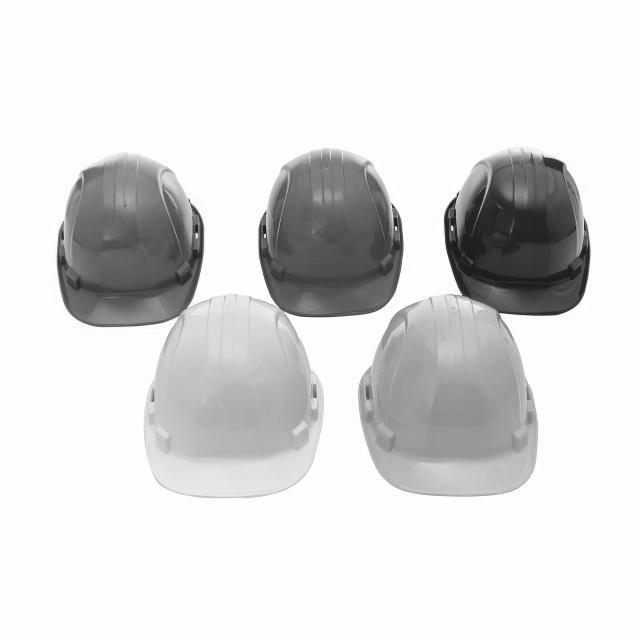construction helmet: (356, 294, 540, 500), (142, 300, 319, 503), (55, 152, 206, 330), (443, 148, 593, 318), (255, 148, 404, 318)
